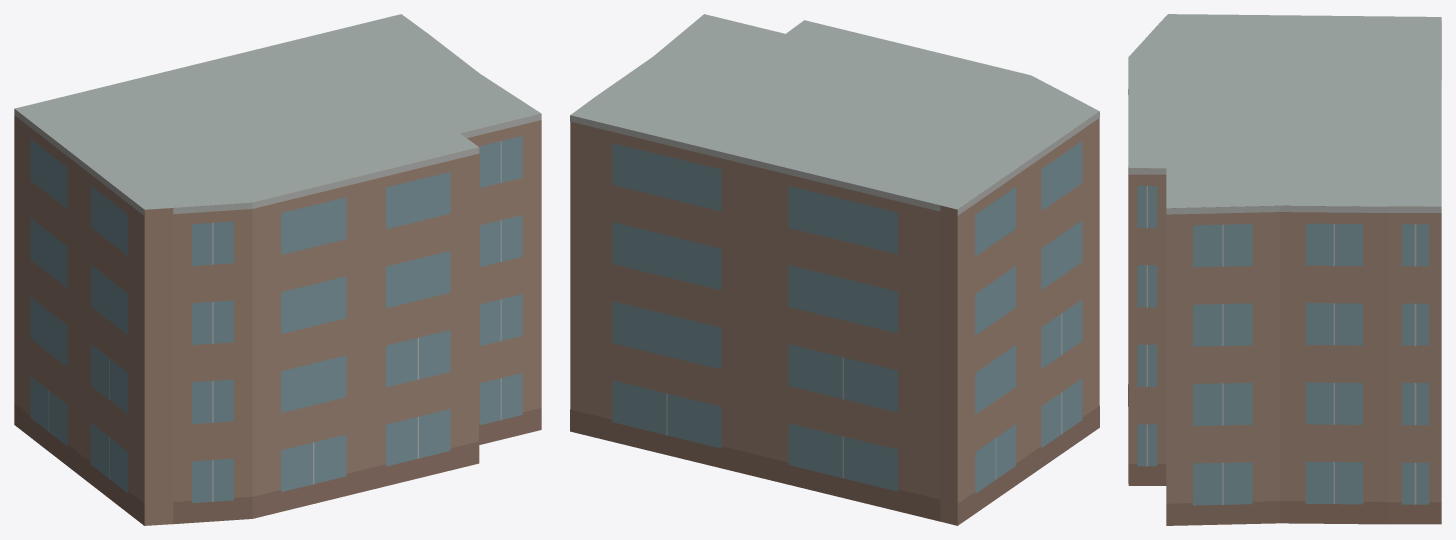
The model's file is survey-upis-33009918.glb.
3 renders of one model, left to right at view 1: azimuth 30°, elevation 25°; view 2: azimuth 150°, elevation 25°; view 3: azimuth 270°, elevation 25°, orthographic.
Parts seen in each view (by area): view 1: survey-upis-33009918.tmp; view 2: survey-upis-33009918.tmp; view 3: survey-upis-33009918.tmp.
Part boxes in pixels (x1=…): survey-upis-33009918.tmp: x1=14, y1=14, x2=541, y2=525; survey-upis-33009918.tmp: x1=570, y1=14, x2=1099, y2=525; survey-upis-33009918.tmp: x1=1128, y1=14, x2=1441, y2=525.
Bounding box in the file's own units: 16.01 × 12.2 × 10.93.
